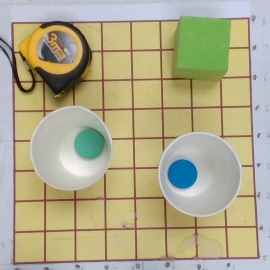cup_blue: (156, 131, 242, 217)
cup_green: (30, 104, 124, 191)
